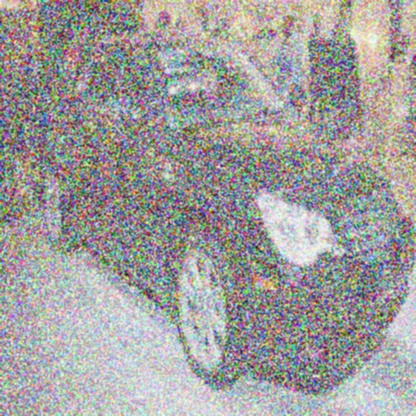Vehicle: (31, 28, 415, 400)
